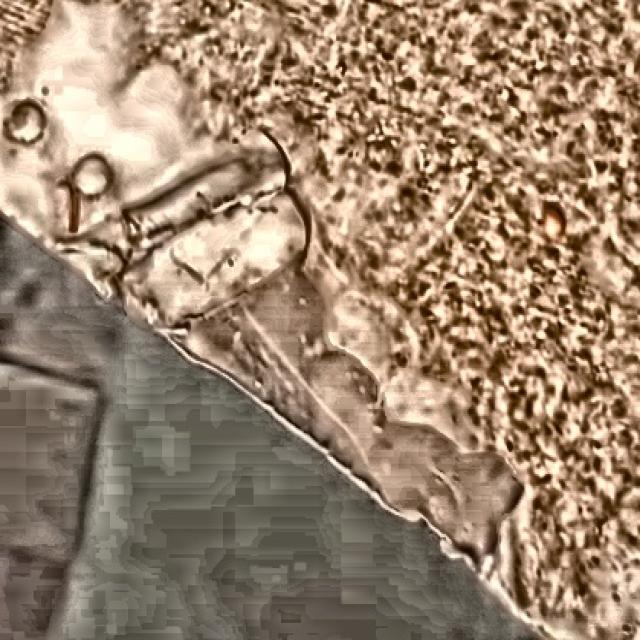crack: (275, 162, 327, 258)
